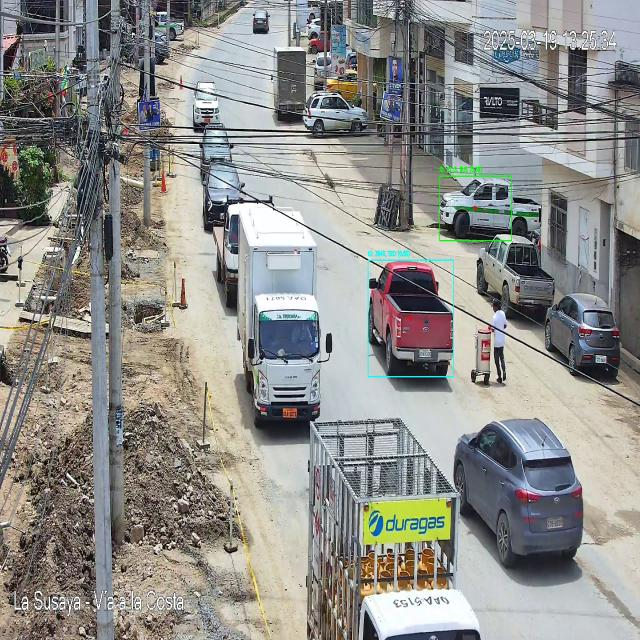CMT: (369, 264, 454, 382)
SUV: (454, 420, 584, 562)
TRUCK: (308, 418, 482, 640), (238, 203, 322, 430)
